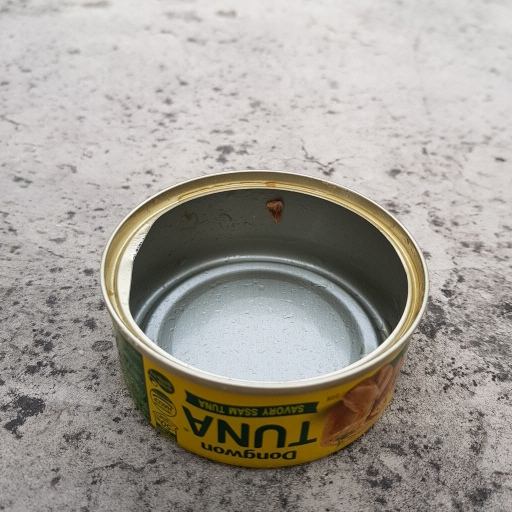Metal_1: (98, 161, 431, 470)
